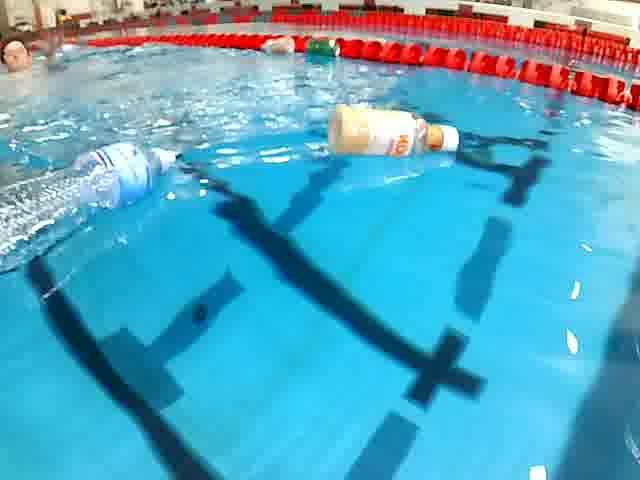Bottle: (0, 140, 186, 275), (321, 100, 468, 161), (258, 34, 298, 57)
Can: (302, 39, 347, 62)
